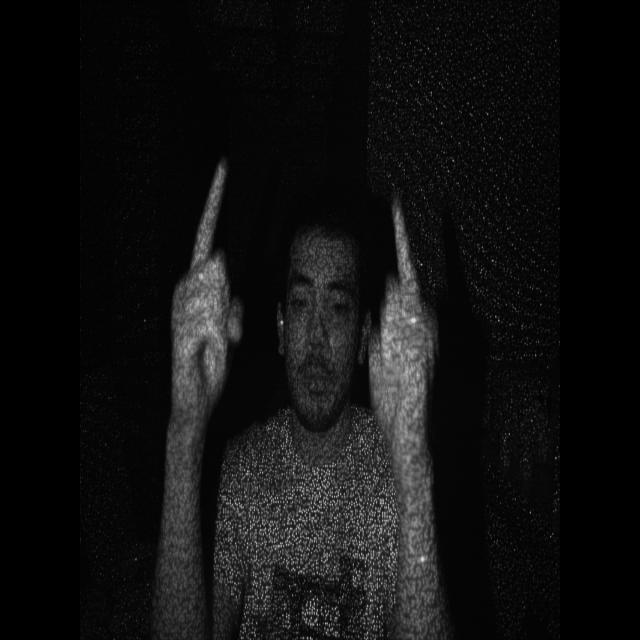STARS: (153, 131, 248, 419), (362, 200, 442, 470)
